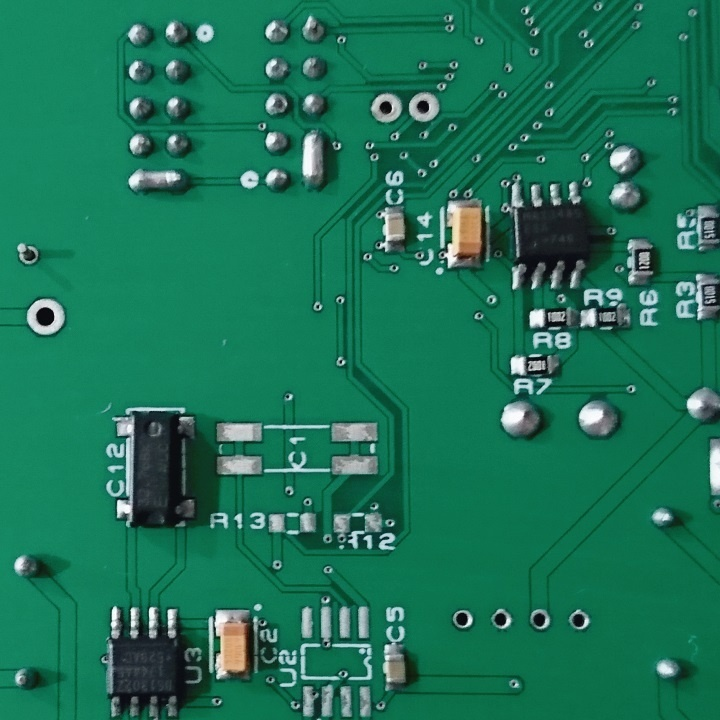F: (24, 293, 68, 338), (367, 89, 404, 126), (406, 89, 439, 125), (13, 241, 42, 268), (487, 605, 512, 631), (566, 609, 592, 633), (450, 608, 475, 632), (527, 607, 551, 632)
P: (124, 166, 195, 197), (298, 126, 325, 193)
